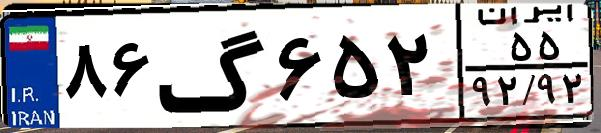2: (385, 28, 445, 110), (560, 70, 590, 125), (495, 70, 520, 125)
5: (330, 28, 385, 110), (537, 27, 568, 80), (508, 27, 537, 80)
6: (270, 28, 330, 110), (110, 28, 156, 98)
8: (57, 26, 110, 100)
9: (470, 70, 495, 125), (535, 70, 560, 125)
گ: (156, 12, 270, 120)
